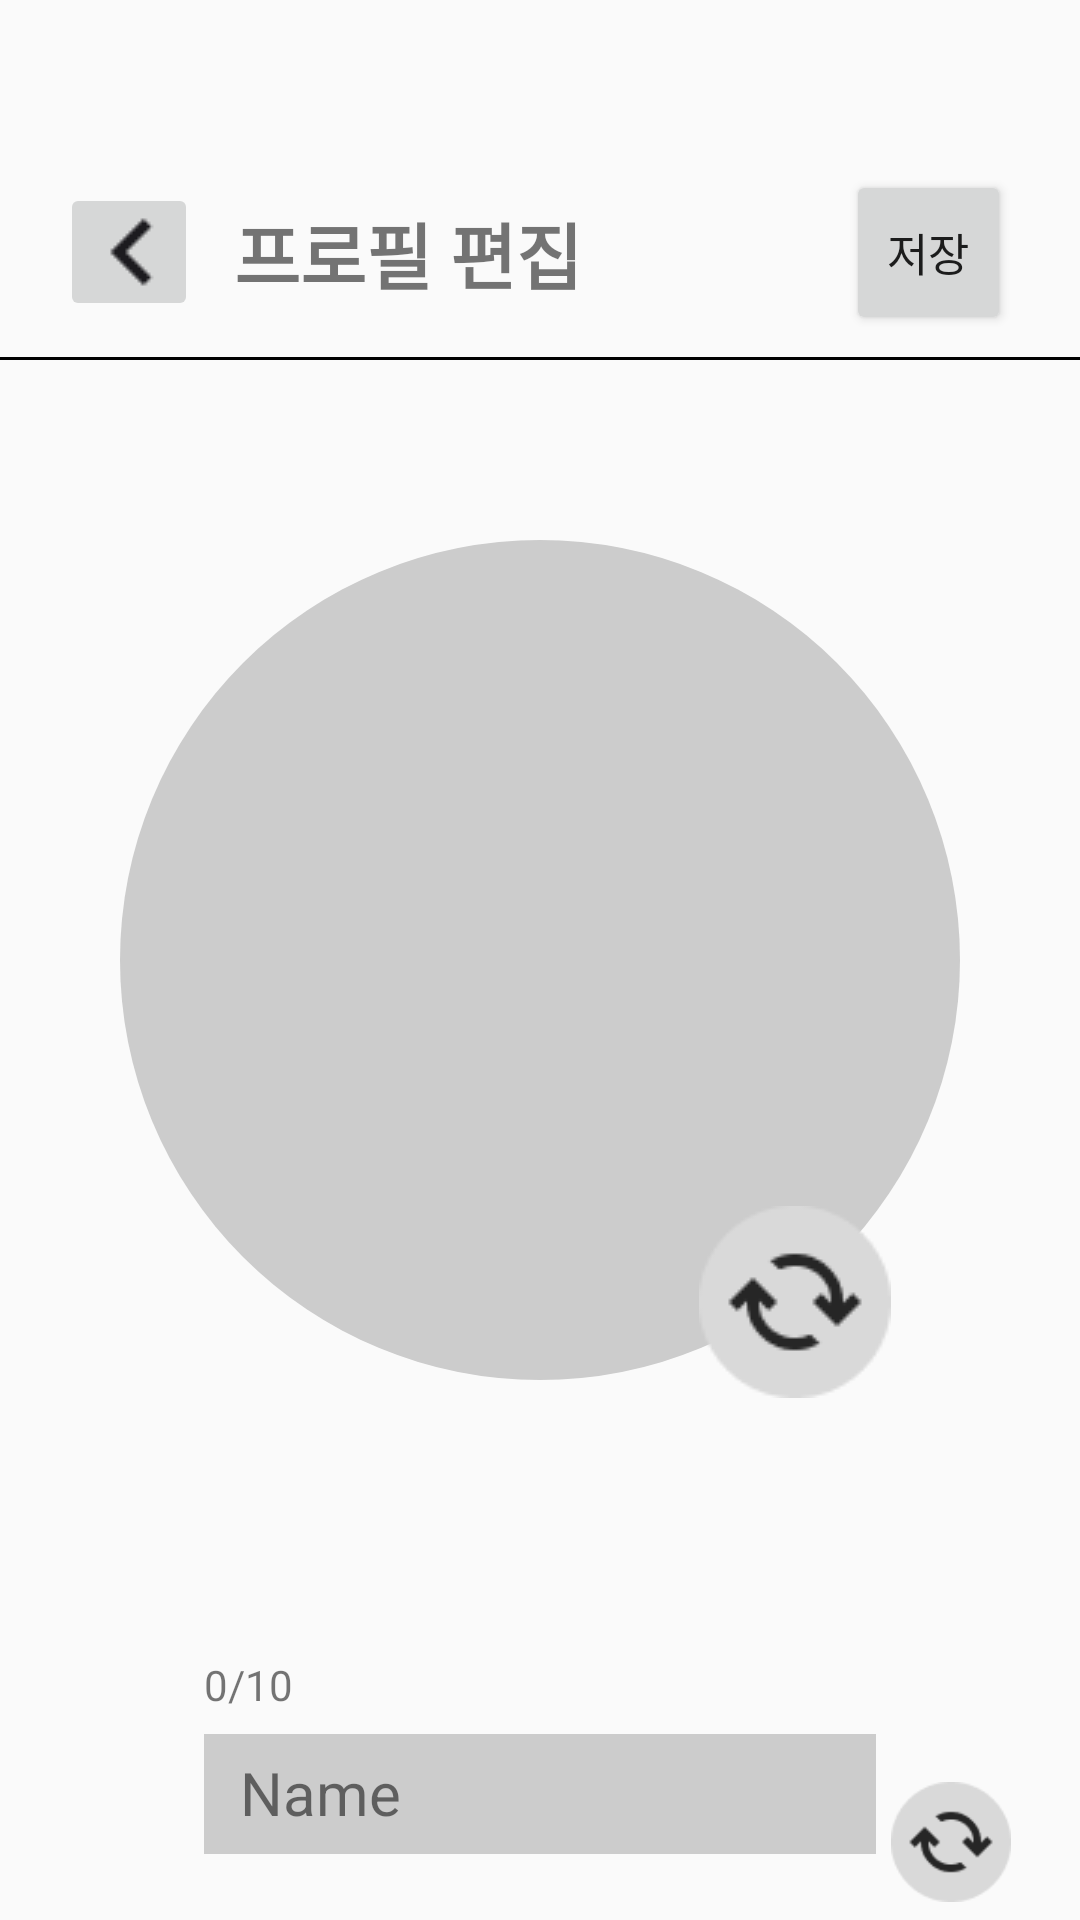

Where icons sit on this 1080px×1920px app screen, as (left=x1, top=y1, right=x2, bottom=y2):
back: (left=72, top=201, right=186, bottom=303)
